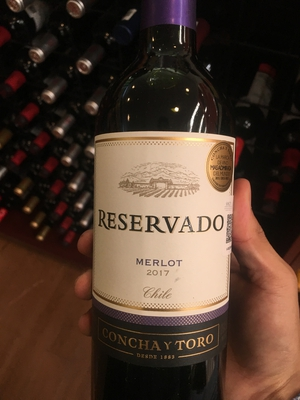reservado merlot: (78, 18, 242, 400)
